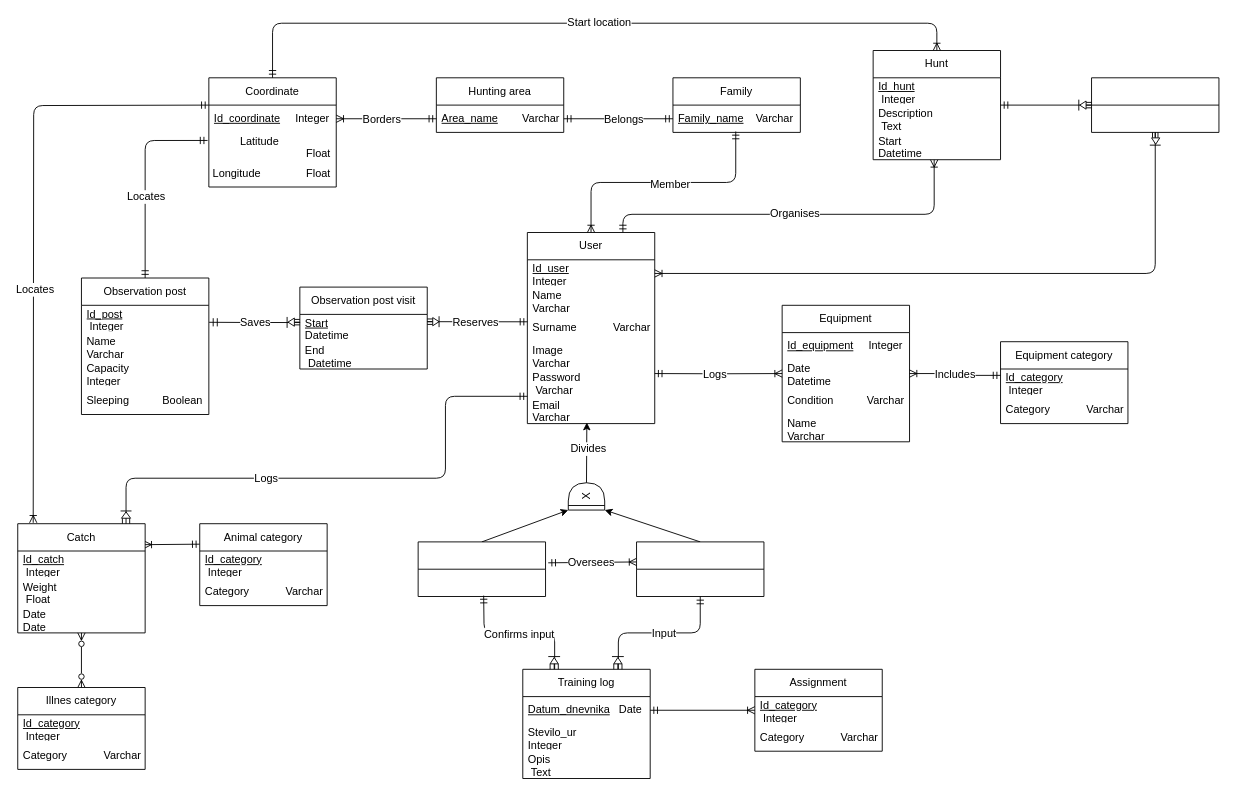
The diagram is 1235 pixels wide and 794 high, and some of its shapes have lost their labels. The shapes that lost their labels are listed below. From the top down, each one's centre as x and y in pixels, then its label:
At [1155,104]: "Hunt attendance".
At [481,569]: "Hunter".
At [700,569]: "Trainee".
